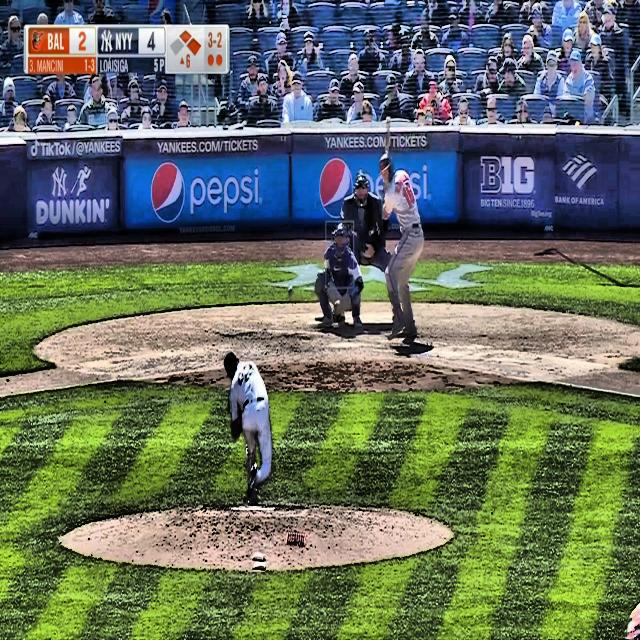baseball: (288, 286, 294, 296)
